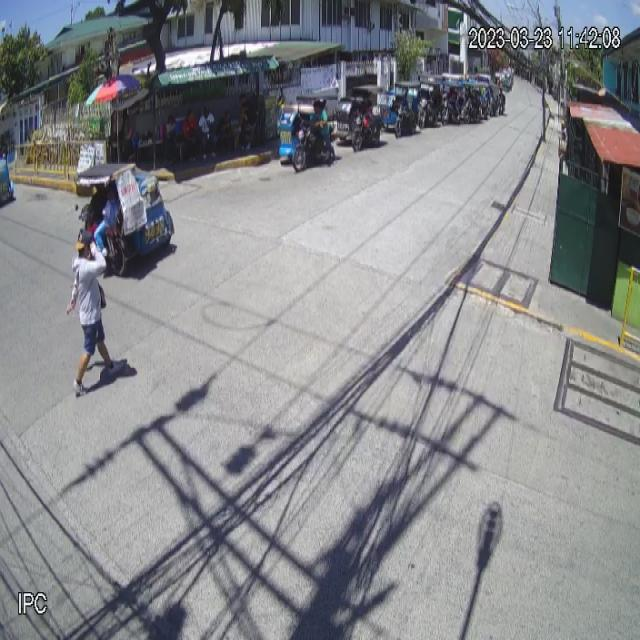Tricycle: (70, 163, 176, 278)
